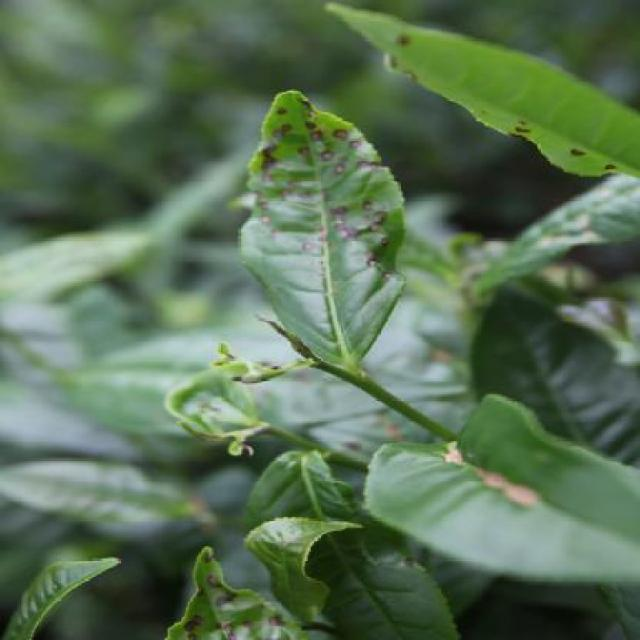Tea Mosquito bug infested leaf: (182, 80, 426, 392)
